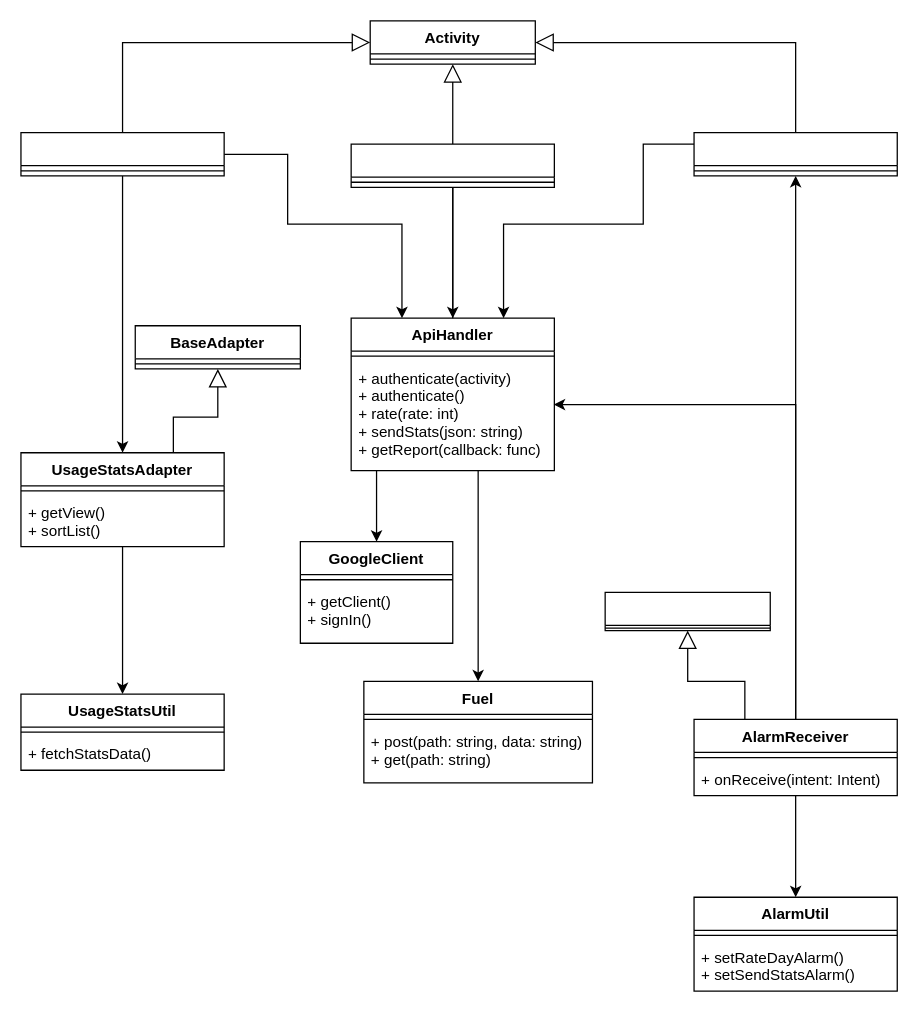
Some shapes in this 918 by 1012 pixel diagram are drawn without their labels. The shapes that lost their labels are listed below. From the top down, each one's centre as x and y in pixels, then its label:
At point (122, 153): "MainActivity".
At point (452, 165): "ReportActivity".
At point (795, 153): "AlertActivity".
At point (687, 611): "BroadcastReceiver".
